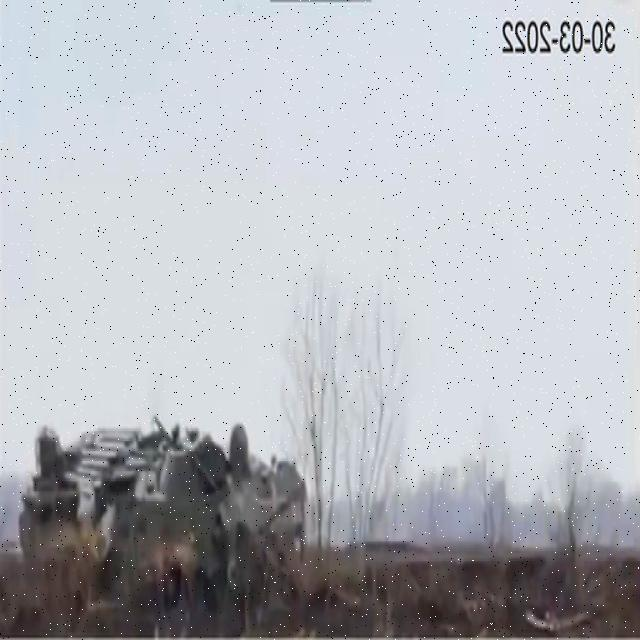APC-IFV: (19, 368, 315, 624)
